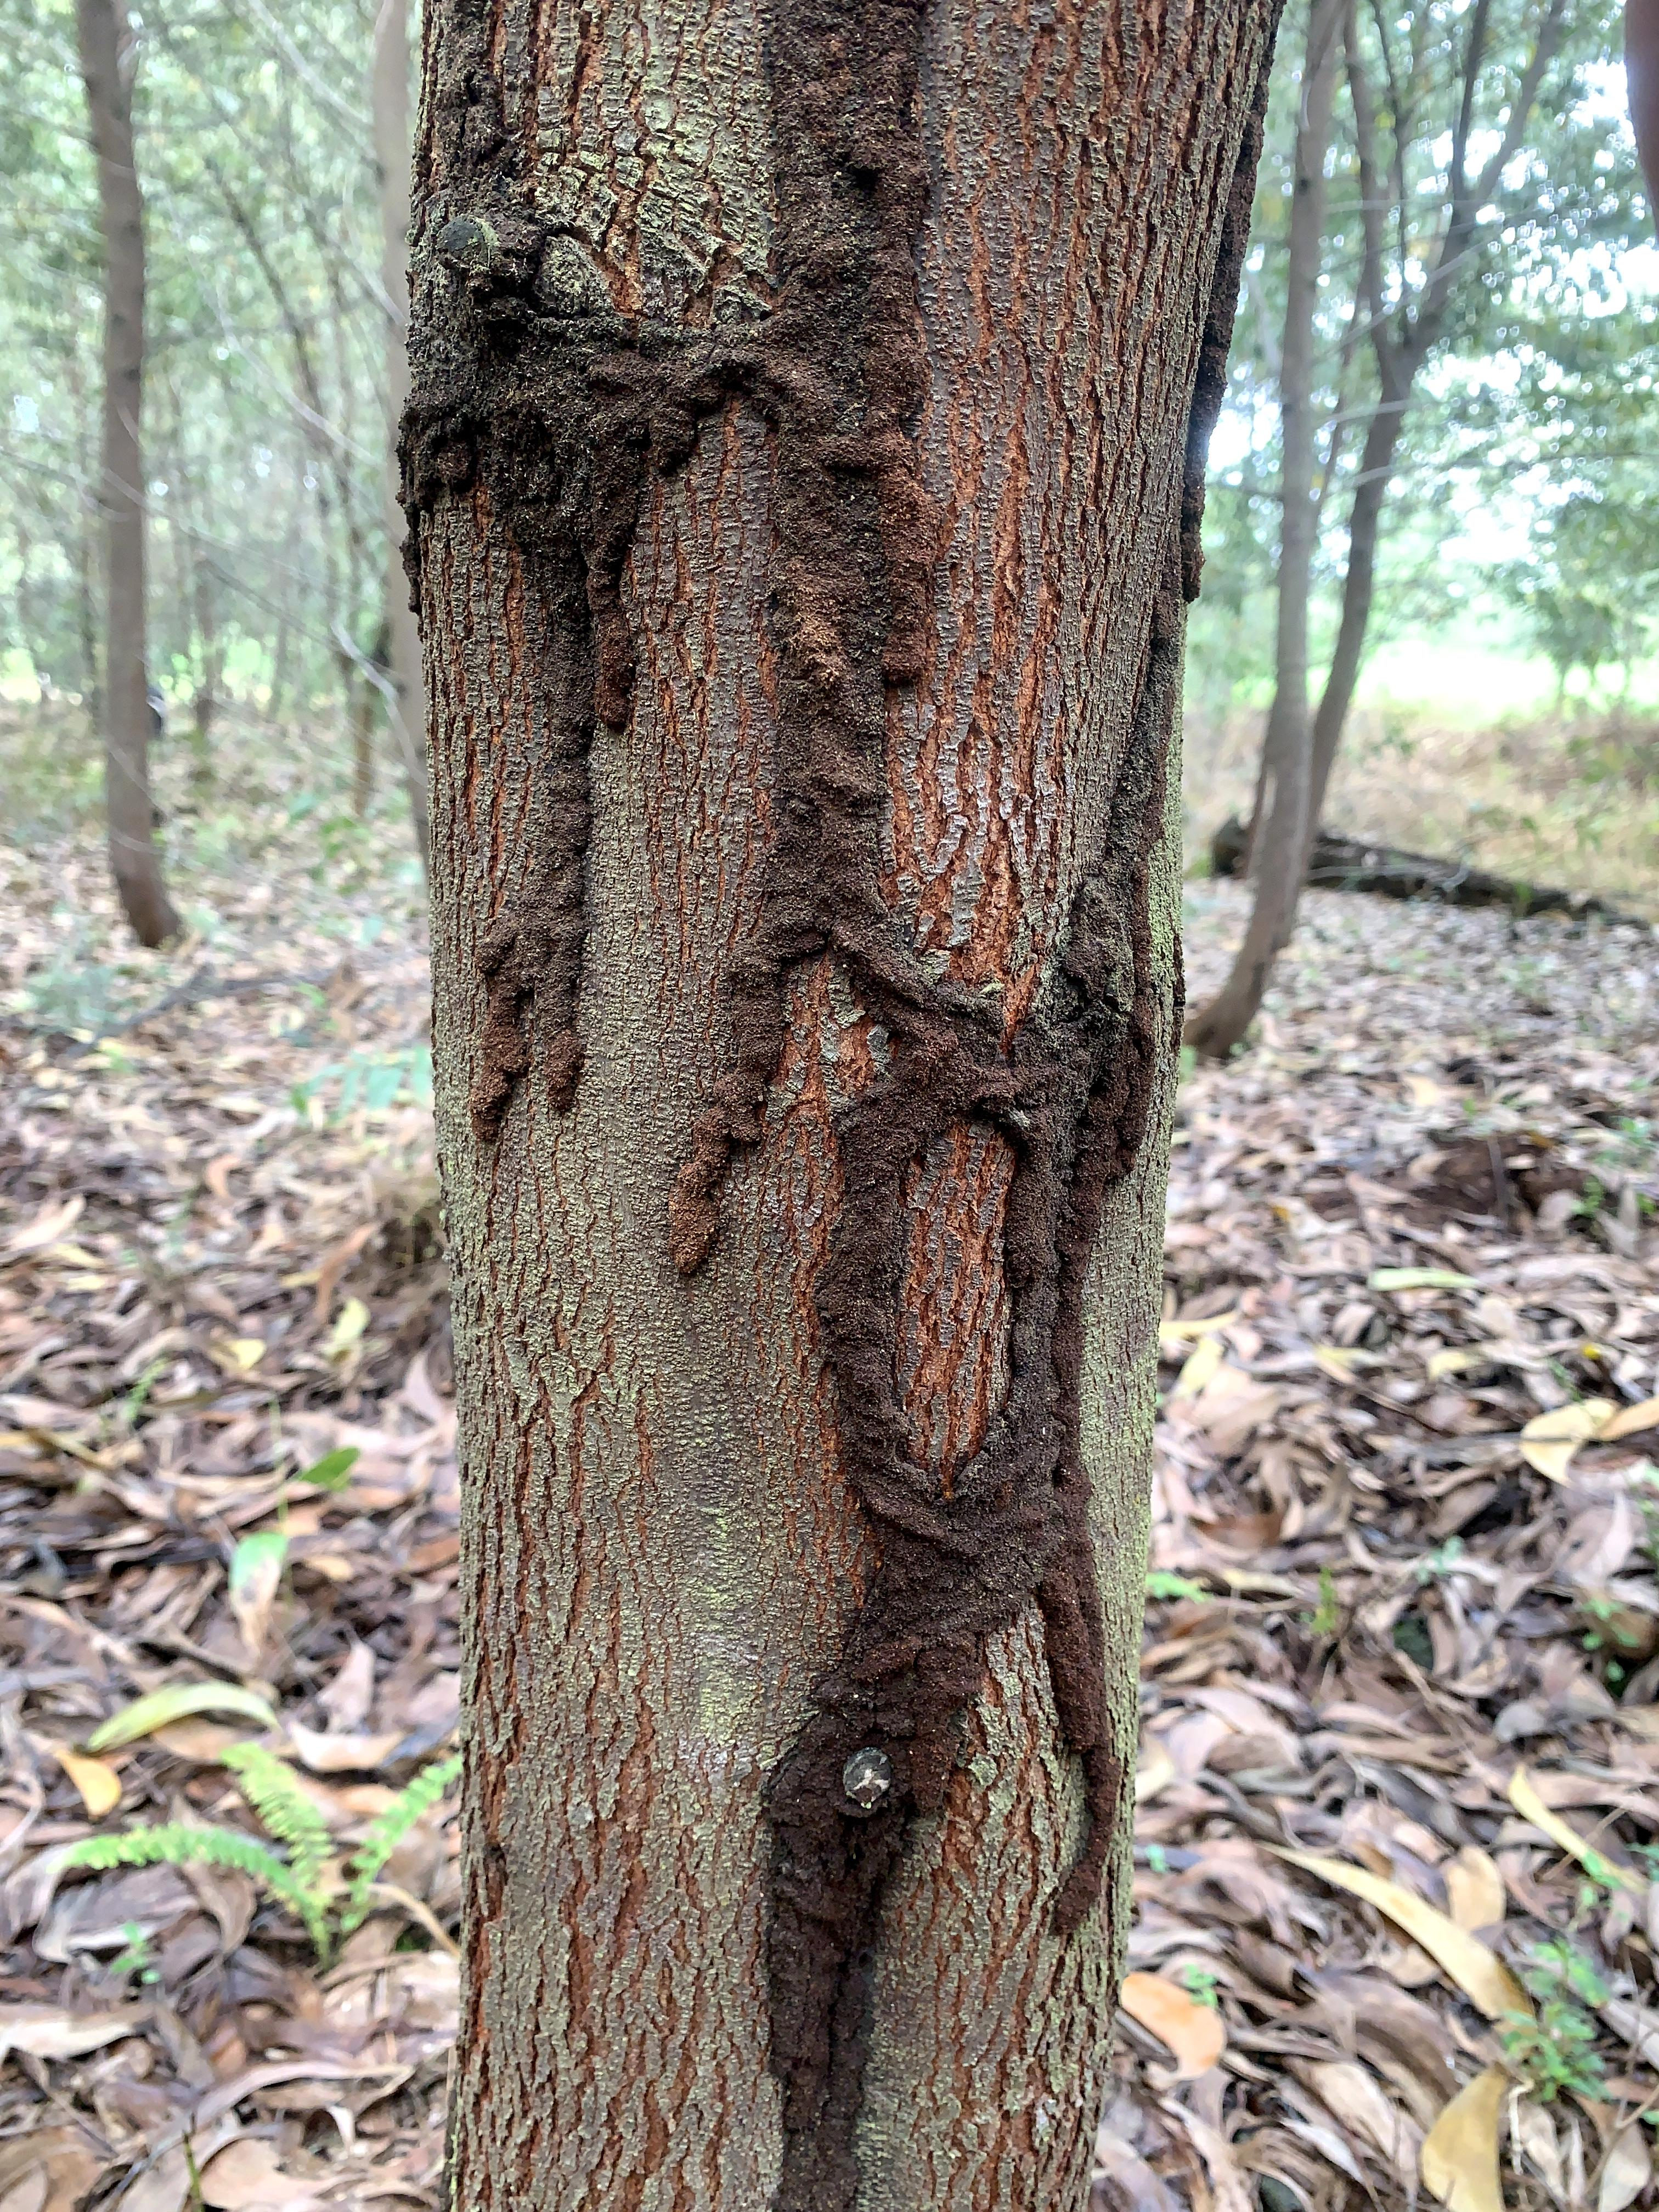Termite - Nest: (730, 0, 1223, 2212), (390, 7, 714, 857)
